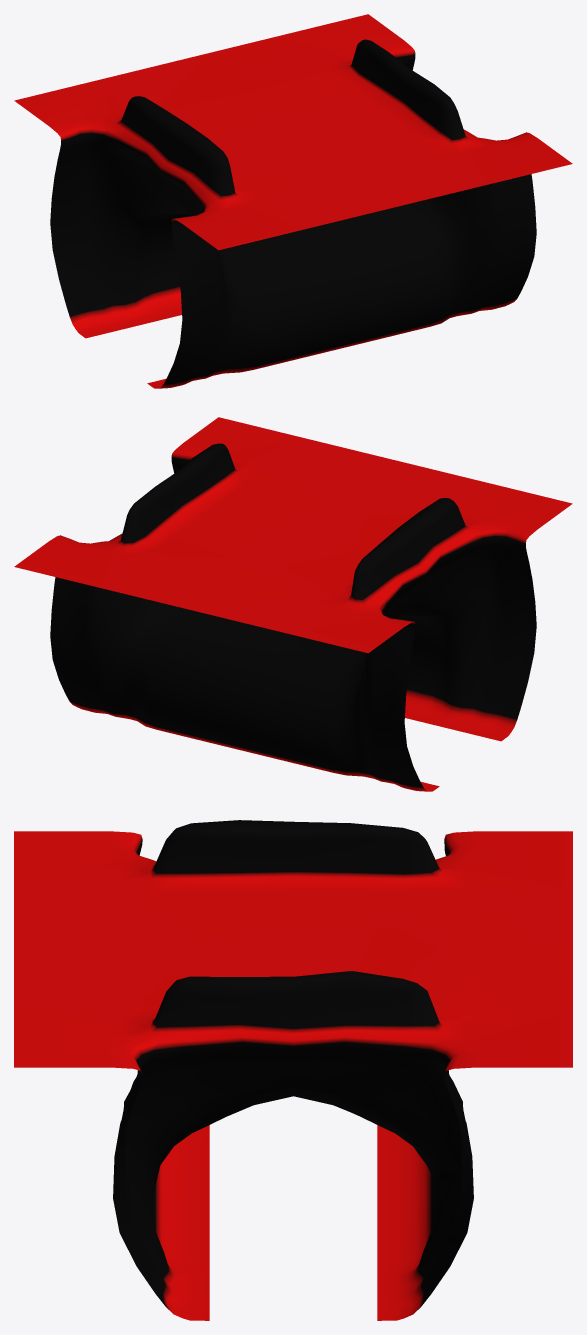
File: CrossingCliff03D 2M Background.fbx
3 views of the same model, one above another, from view 1: azimuth 30°, elevation 25°; view 2: azimuth 150°, elevation 25°; view 3: azimuth 270°, elevation 25° (orthographic). The views are drawn at different scales.
Parts seen in each view (by area): view 1: CrossingCliff03D 2M Background; view 2: CrossingCliff03D 2M Background; view 3: CrossingCliff03D 2M Background.
Boxes of the visible parts, <box> form: CrossingCliff03D 2M Background: <box>14,14,572,388</box>; CrossingCliff03D 2M Background: <box>14,417,572,791</box>; CrossingCliff03D 2M Background: <box>14,820,572,1320</box>.
Size of the model in its own units: 4 by 2.41 by 4.
